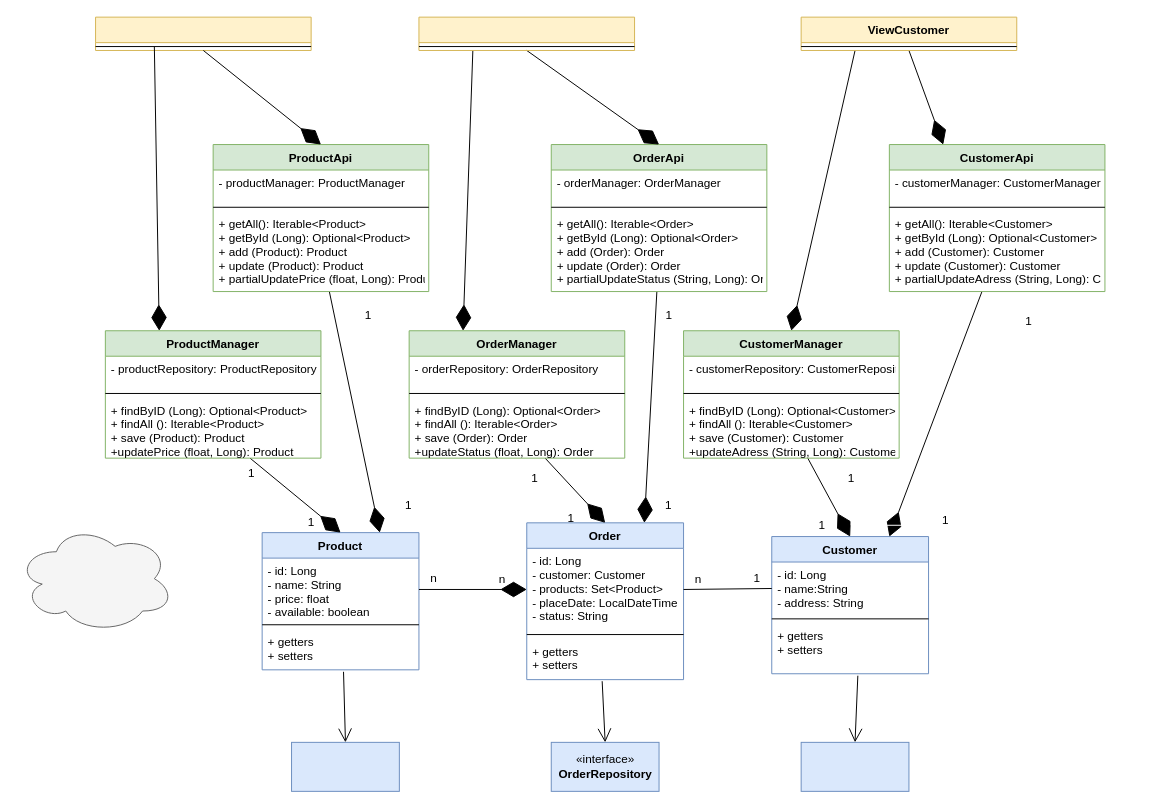
Image size: 1159x809. Some labels were removed from this diagram. The centre of each missing label's shape, as x and y in pixels:
"Legenda: niebieski- persistance zielony- business żółty- presentation" belongs at point 95,578.
"ViewOrder" belongs at point 526,33.
"ViewProduct" belongs at point 203,33.
"«interface» CutomerRepository" belongs at point 854,766.
"«interface» ProductRepository" belongs at point 345,766.
